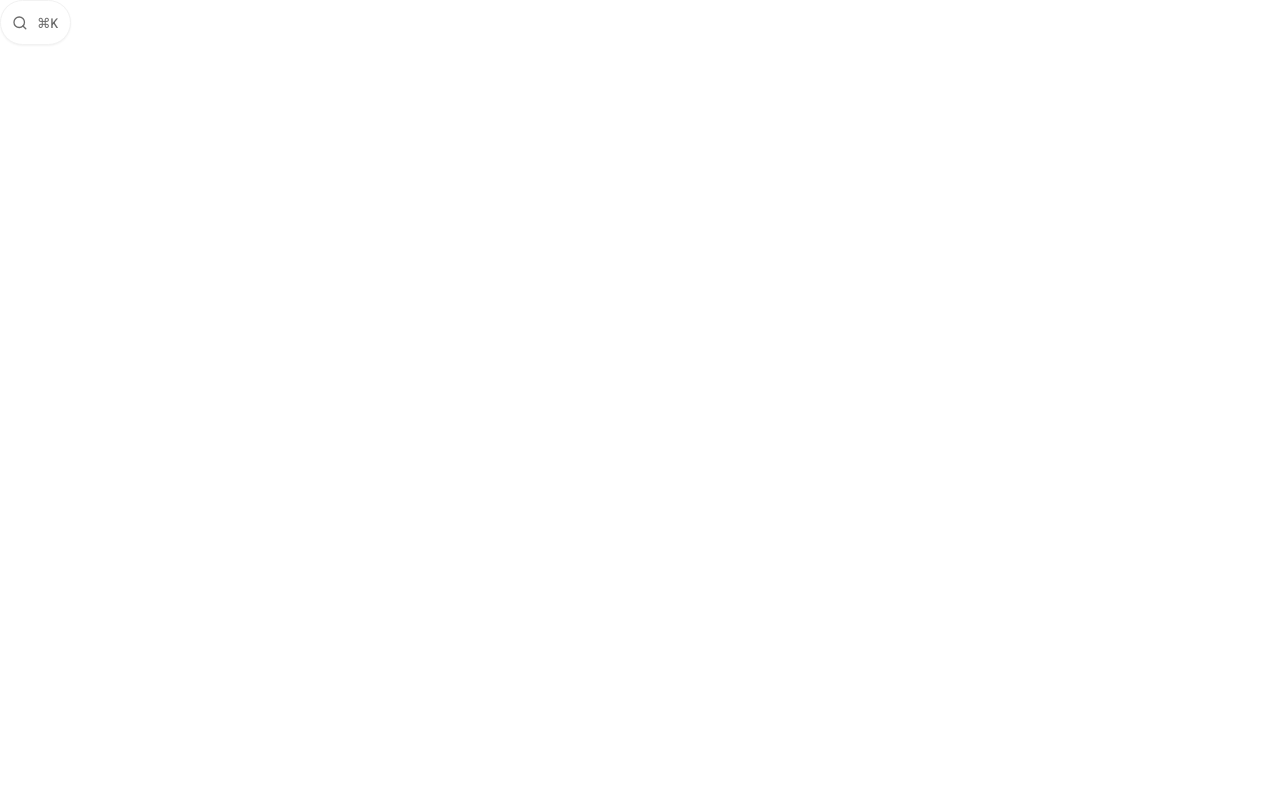
Test: CommandPalette › opens with Ctrl+K and navigates to a section
Step 1. Type keys "{Control>}k{/Control}"
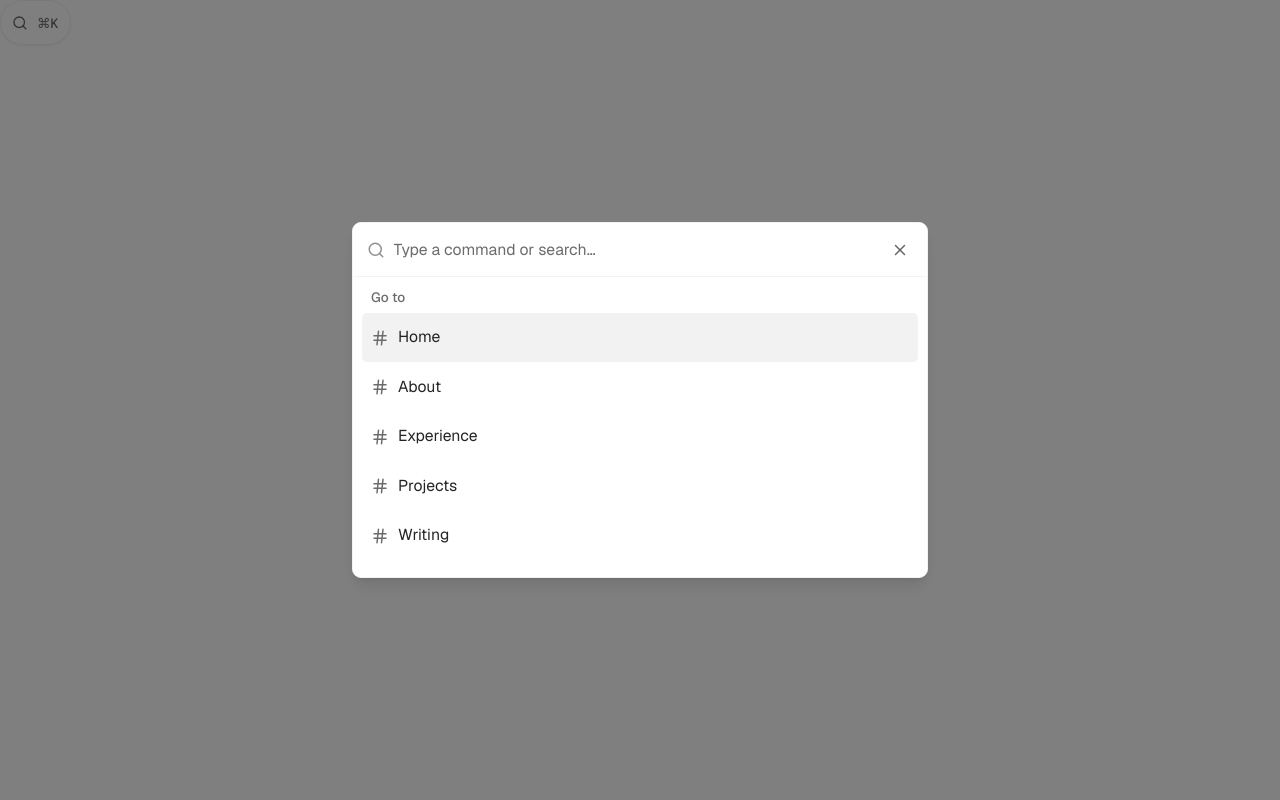
Expected: the dialog is shown, [352, 222, 928, 578]
Step 2. Click the option "Experience" → (424, 436), box [371, 426, 478, 446]
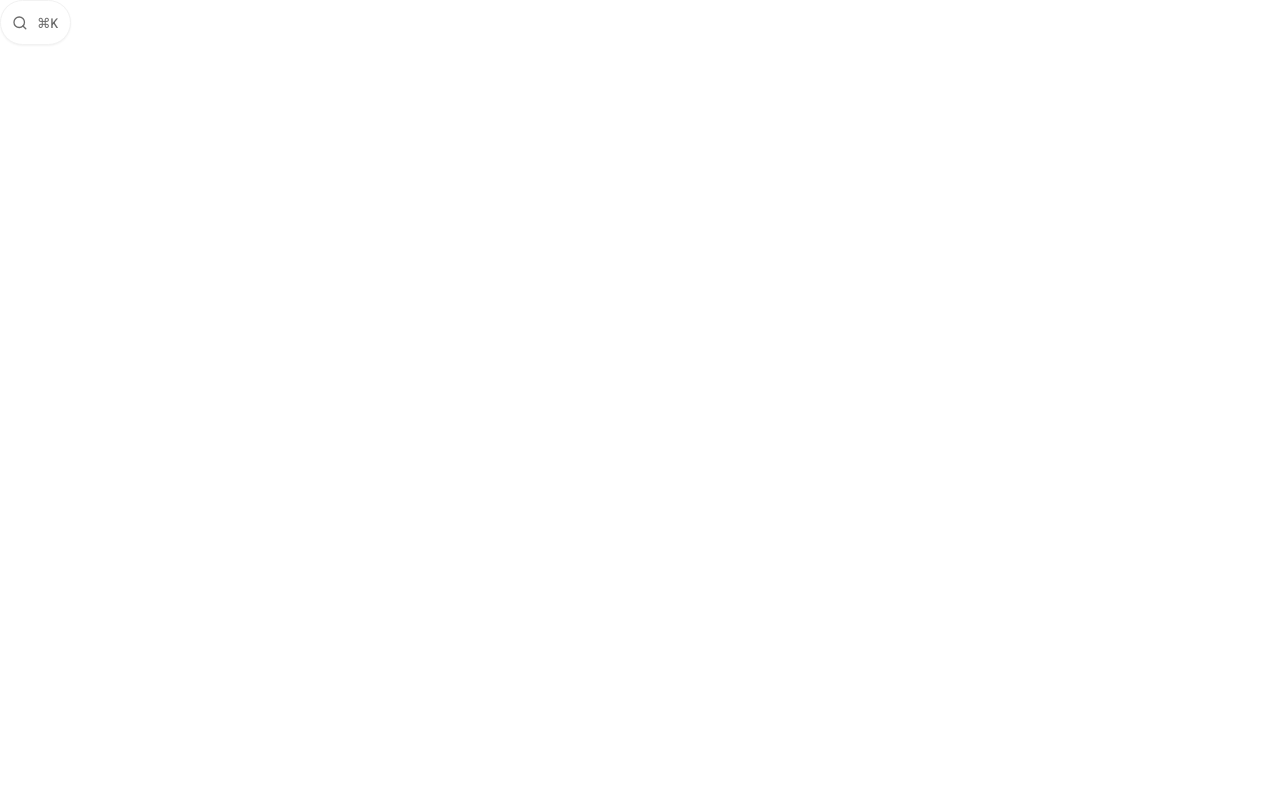
Expected: the dialog is gone
